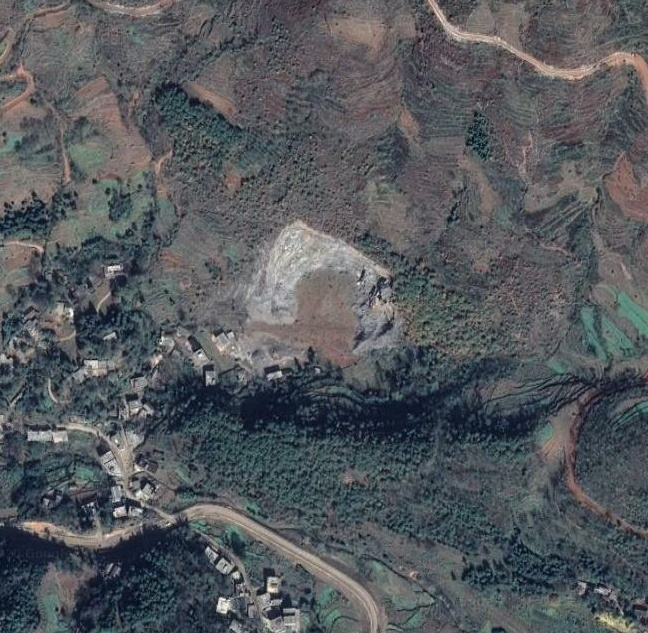slope: (242, 217, 412, 355)
